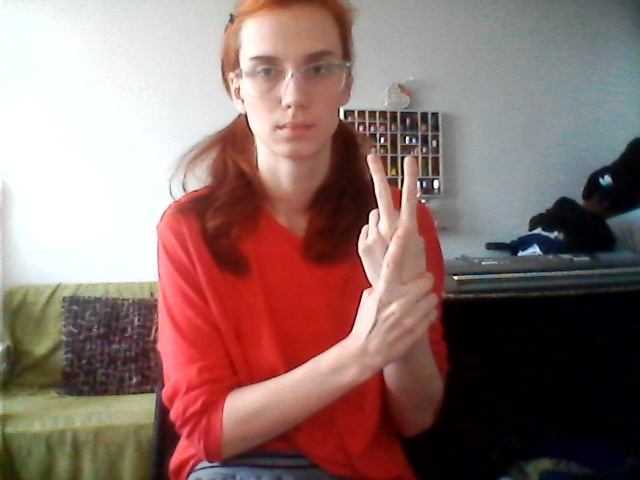y: (330, 143, 453, 368)
